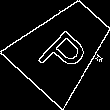P_NE: (32, 17, 94, 79)
